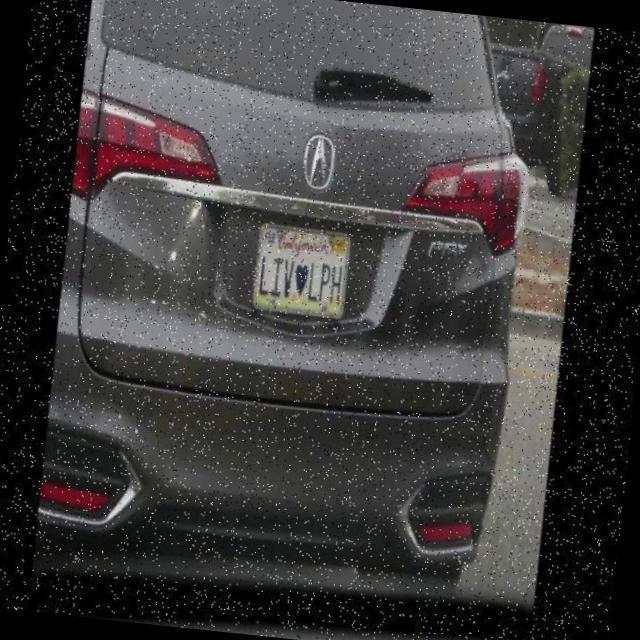License Plate: (250, 202, 358, 324)
